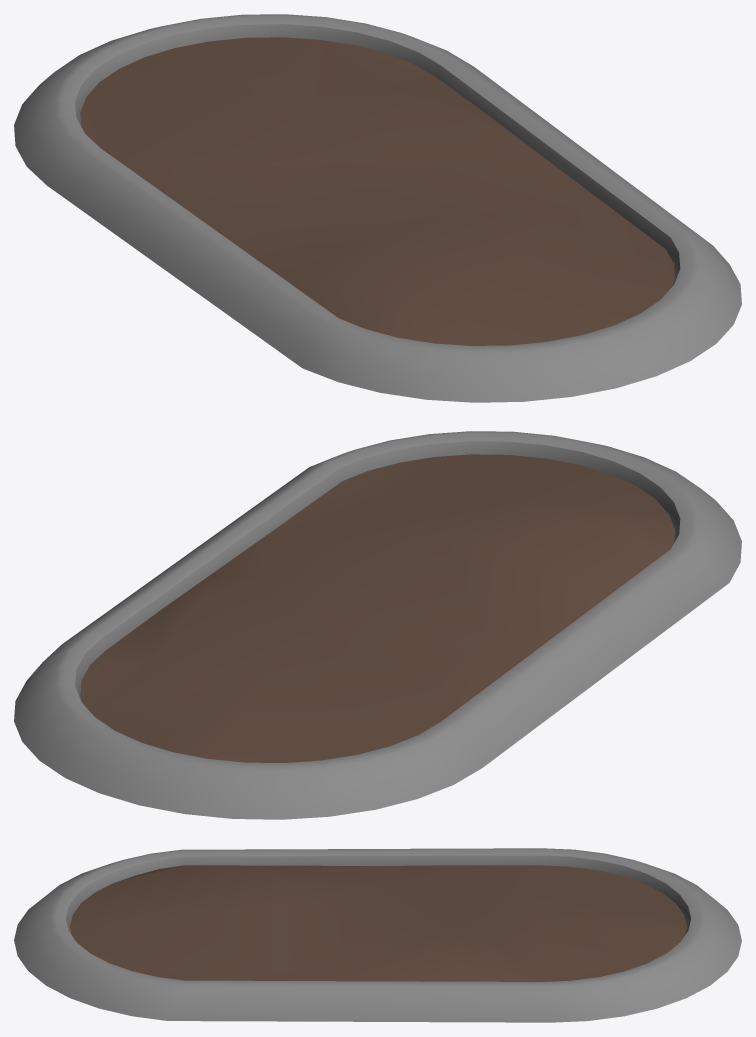
Rendered from dirt oval.fbx.
3 renders of one model, top to bottom at view 1: azimuth 30°, elevation 25°; view 2: azimuth 150°, elevation 25°; view 3: azimuth 270°, elevation 25°, orthographic. The views are drawn at different scales.
Parts seen in each view (by area): view 1: Cylinder.002, Cylinder.001; view 2: Cylinder.002, Cylinder.001; view 3: Cylinder.002, Cylinder.001.
Boxes of the visible parts, x1,y1,x2,y2 form: Cylinder.002: [80, 37, 674, 345]; Cylinder.001: [14, 14, 741, 402]; Cylinder.002: [80, 454, 674, 762]; Cylinder.001: [14, 431, 741, 819]; Cylinder.002: [70, 865, 686, 981]; Cylinder.001: [14, 848, 741, 1022].
Size of the model in its own units: 213 by 21.2 by 404.
